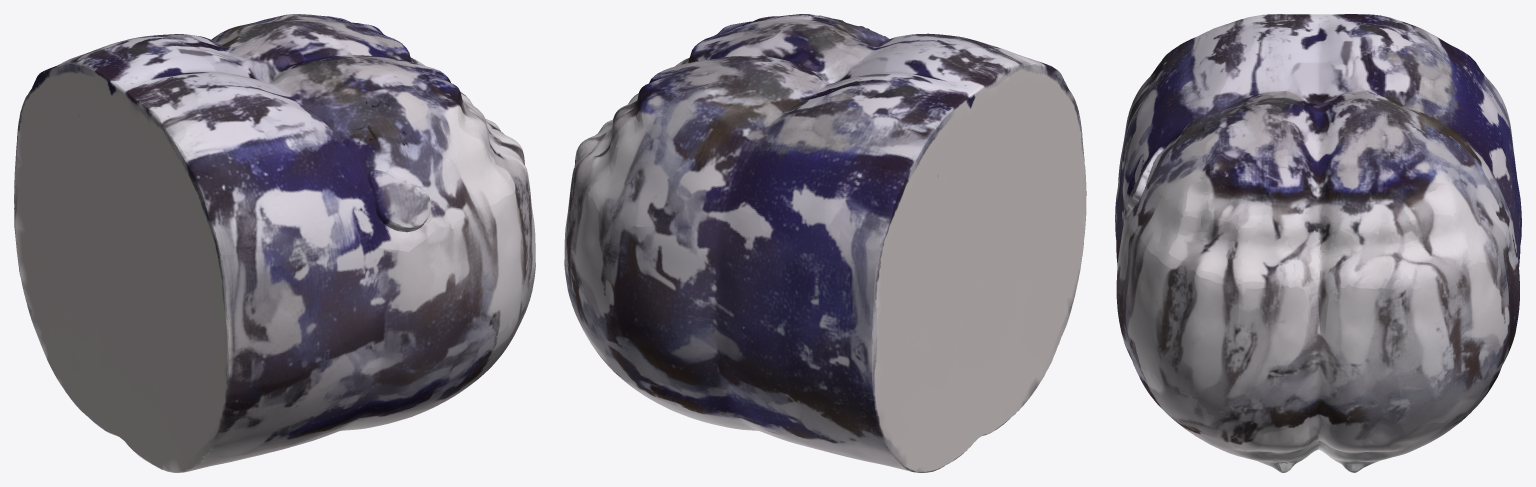
The picture shows the model from 3 angles, left to right: view 1: azimuth 30°, elevation 25°; view 2: azimuth 150°, elevation 25°; view 3: azimuth 270°, elevation 25°; orthographic projection. The views are drawn at different scales.
Visible parts, largest first — view 1: world; view 2: world; view 3: world.
Boxes of the visible parts, bbox=[...] form: world: bbox=[14, 14, 535, 472]; world: bbox=[564, 14, 1086, 472]; world: bbox=[1115, 14, 1521, 472].
Bounding box in the file's own units: 0.585 × 0.5511 × 0.6.
Materials: 1 (1 with a texture image).
